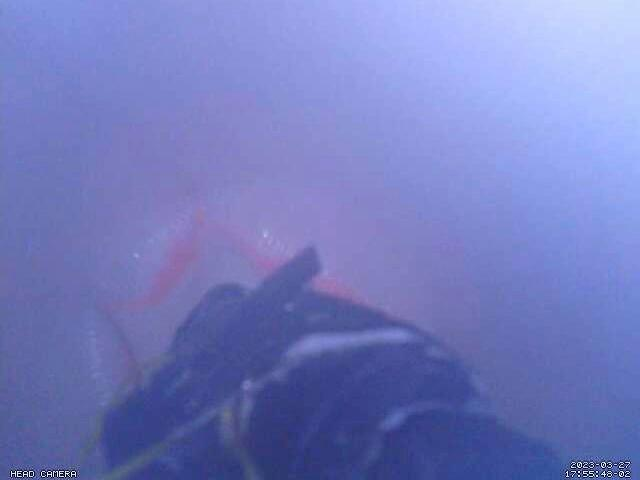head: (99, 217, 368, 390)
